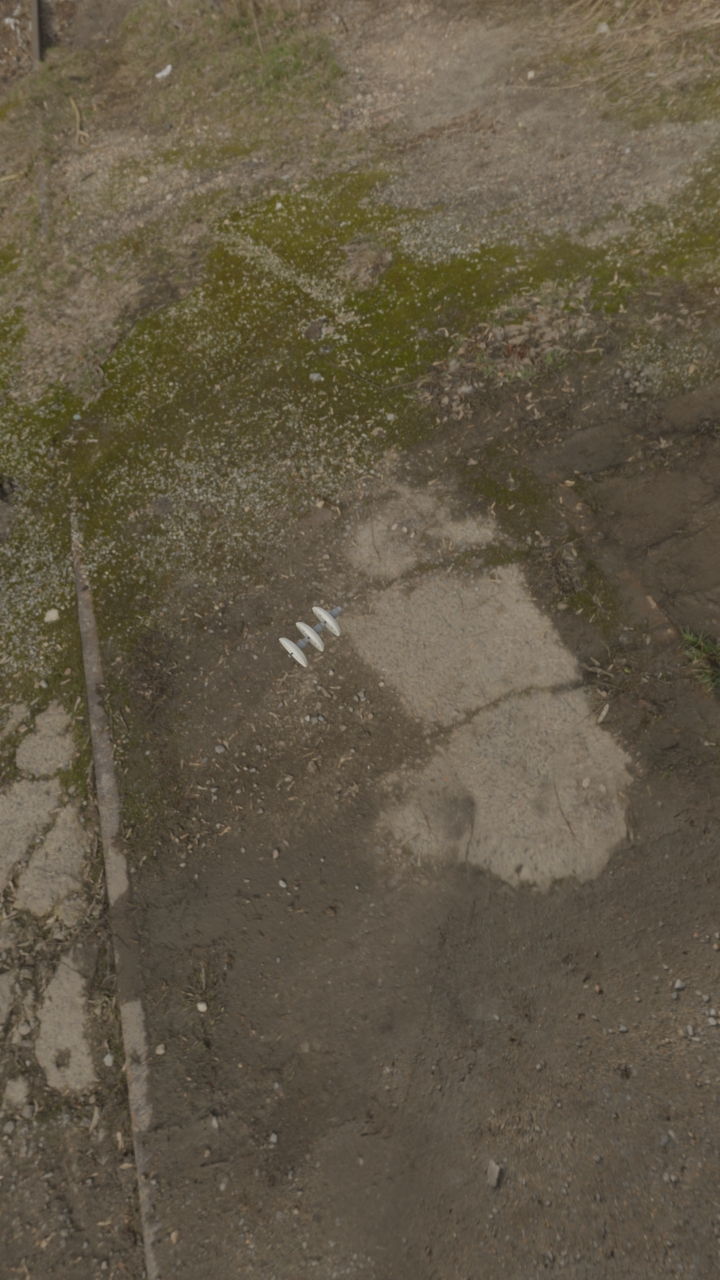ceramicinsulators: (280, 606, 343, 666)
